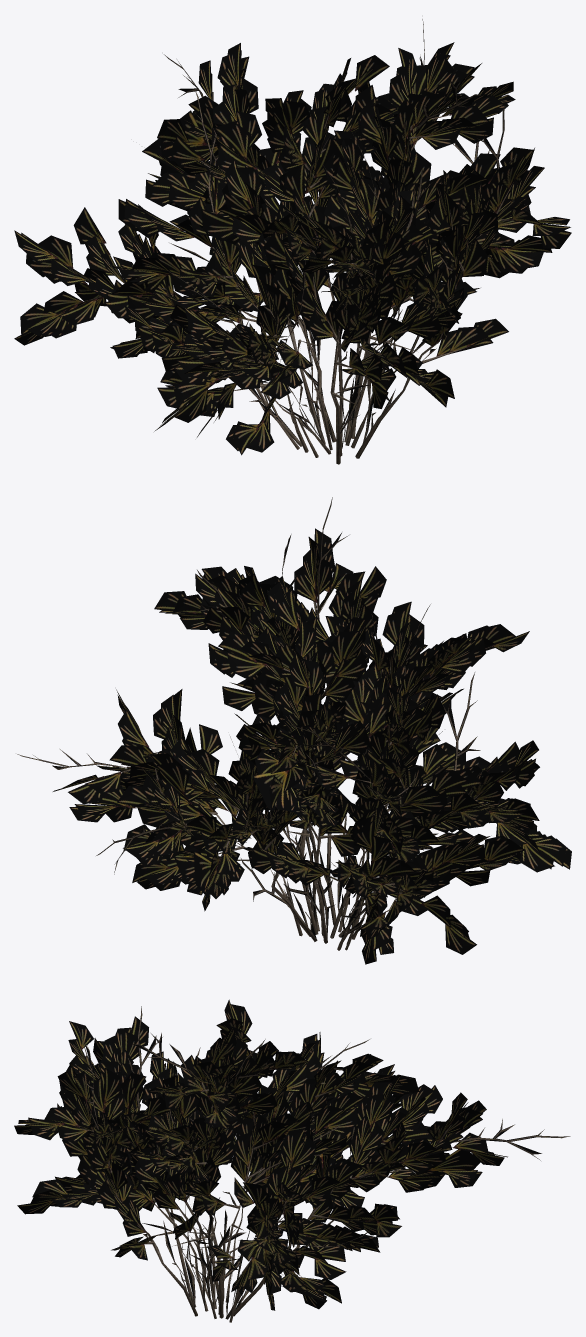
File: wild_rooibos_bush.glb
The picture shows the model from 3 angles, top to bottom: view 1: azimuth 30°, elevation 25°; view 2: azimuth 150°, elevation 25°; view 3: azimuth 270°, elevation 25°; orthographic projection. The views are drawn at different scales.
Parts seen in each view (by area): view 1: wild_rooibos_bush_a; view 2: wild_rooibos_bush_a; view 3: wild_rooibos_bush_a.
Part boxes in pixels (bbox=[...]): wild_rooibos_bush_a: bbox=[14, 19, 571, 464]; wild_rooibos_bush_a: bbox=[17, 497, 571, 964]; wild_rooibos_bush_a: bbox=[14, 999, 570, 1322].
Size of the model in its own units: 0.6908 by 0.5393 by 0.8432.
2 materials, 2 textured.
